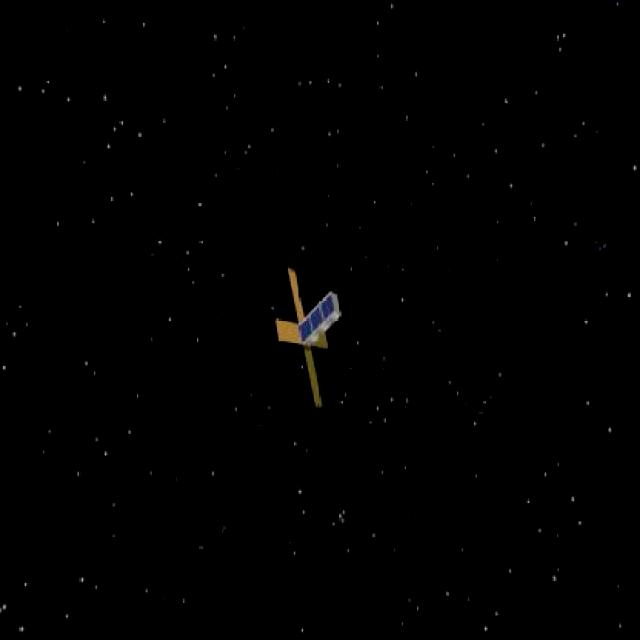satellite: (252, 262, 348, 406)
